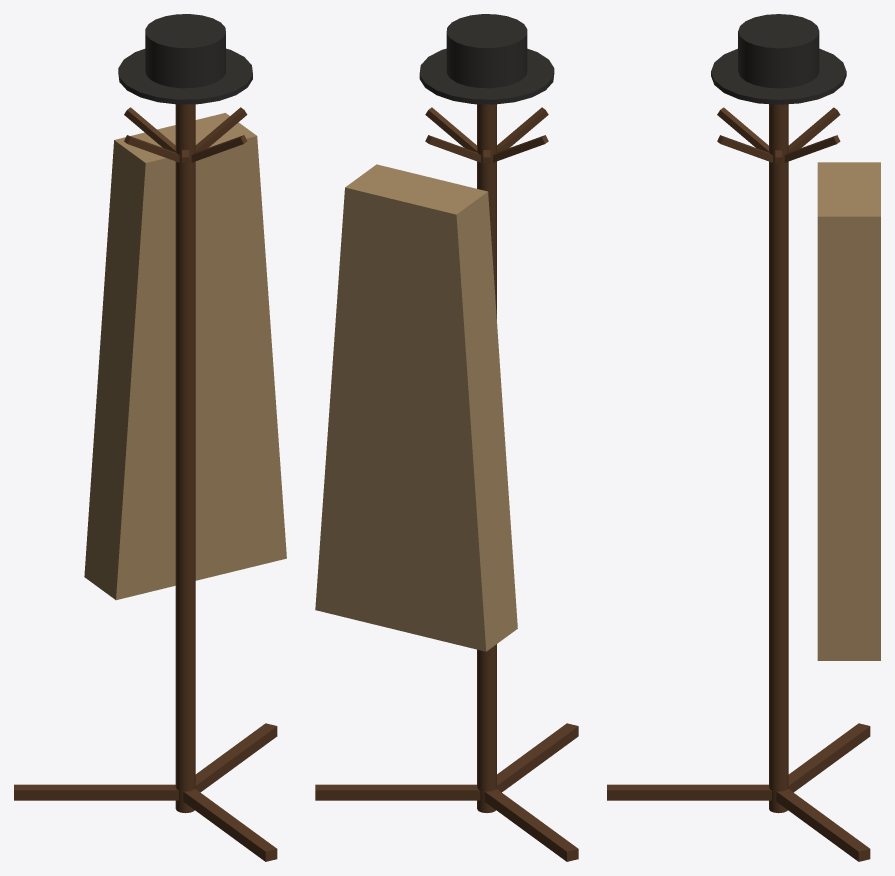
File: SM_80s_CoatRack.glb
3 renders of one model, left to right at view 1: azimuth 30°, elevation 25°; view 2: azimuth 150°, elevation 25°; view 3: azimuth 270°, elevation 25°, orthographic.
Visible parts, largest first — view 1: SM_80s_CoatRack; view 2: SM_80s_CoatRack; view 3: SM_80s_CoatRack.
Boxes of the visible parts, x1,y1,x2,y2 form: SM_80s_CoatRack: (14, 14, 286, 861); SM_80s_CoatRack: (315, 14, 578, 861); SM_80s_CoatRack: (607, 14, 880, 861).
Size of the model in its own units: 0.8886 by 2.51 by 0.7998.
